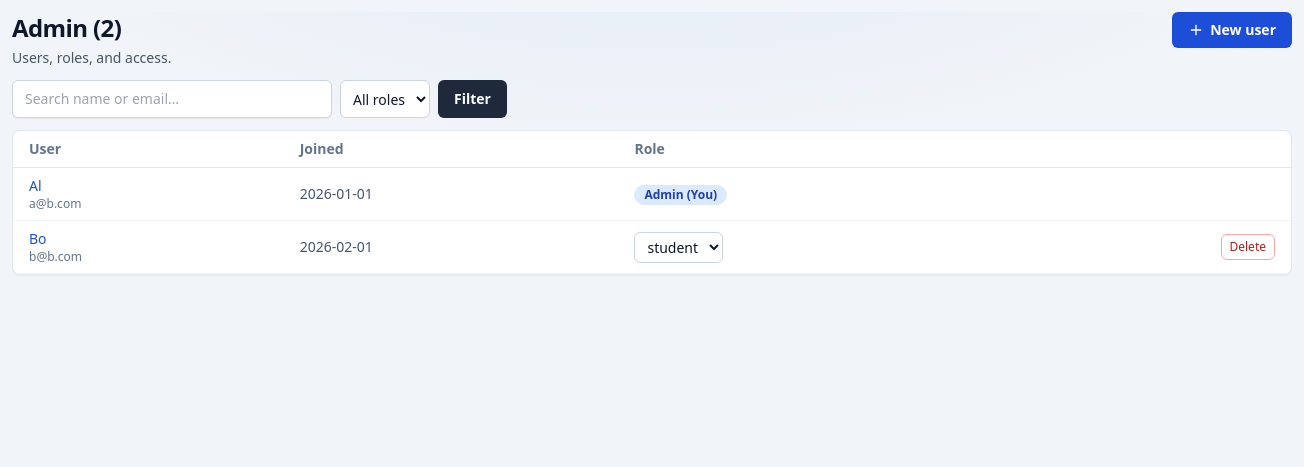
Test case: Admin page › shows validation errors from the server on create
The width and height of the screenshot is (1304, 467).
Expected: the text "b@b.com" is shown, [29, 248, 82, 265]
Click the button "New user" at (1232, 30), box [1172, 12, 1292, 48]
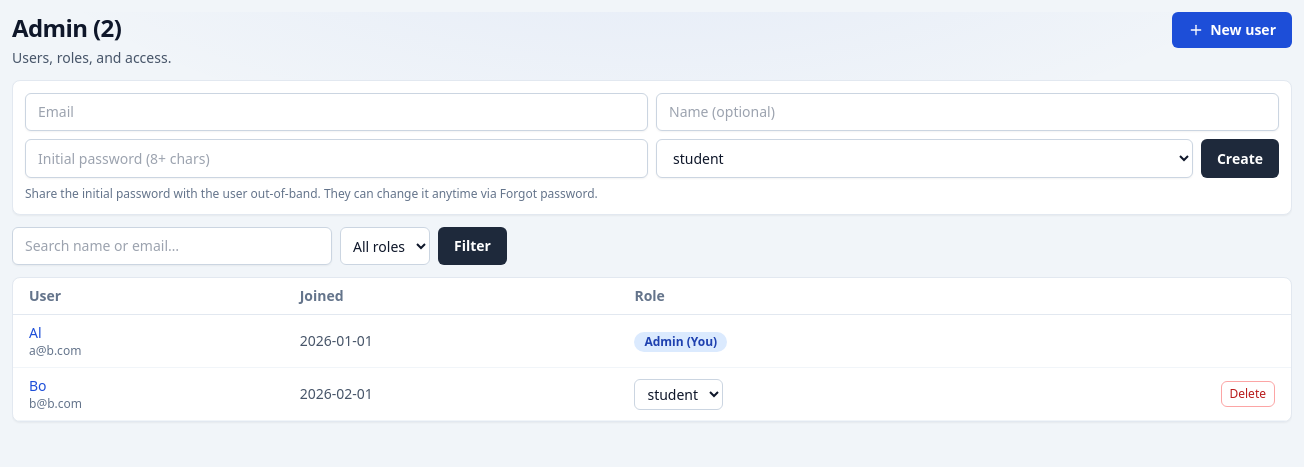
Type "b@b.com" into the field labelled "Email" at (336, 112), box [25, 93, 648, 131]
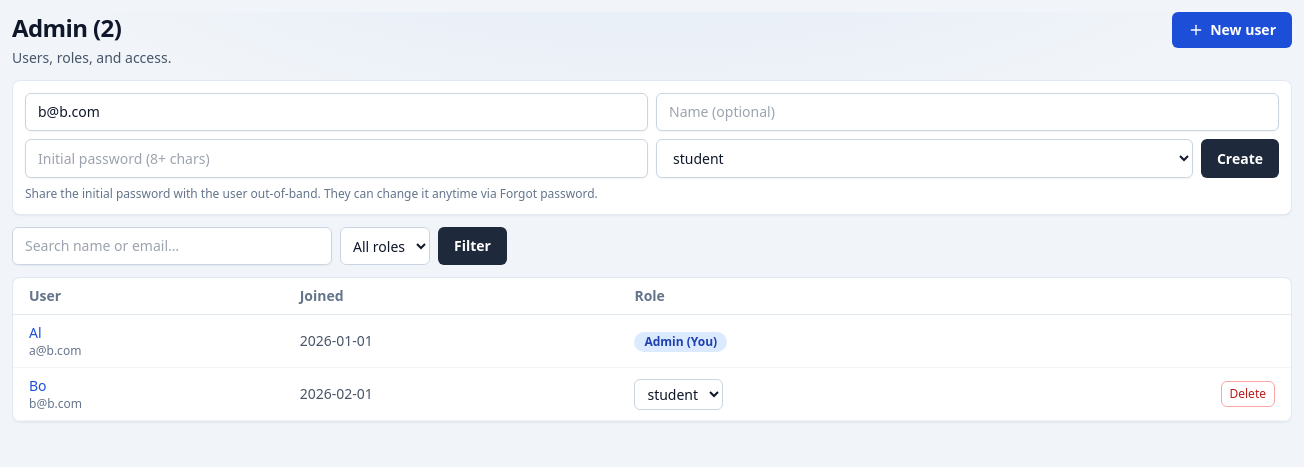
Type "password123" into the password field labelled "Initial password" at (336, 158), box [25, 139, 648, 178]
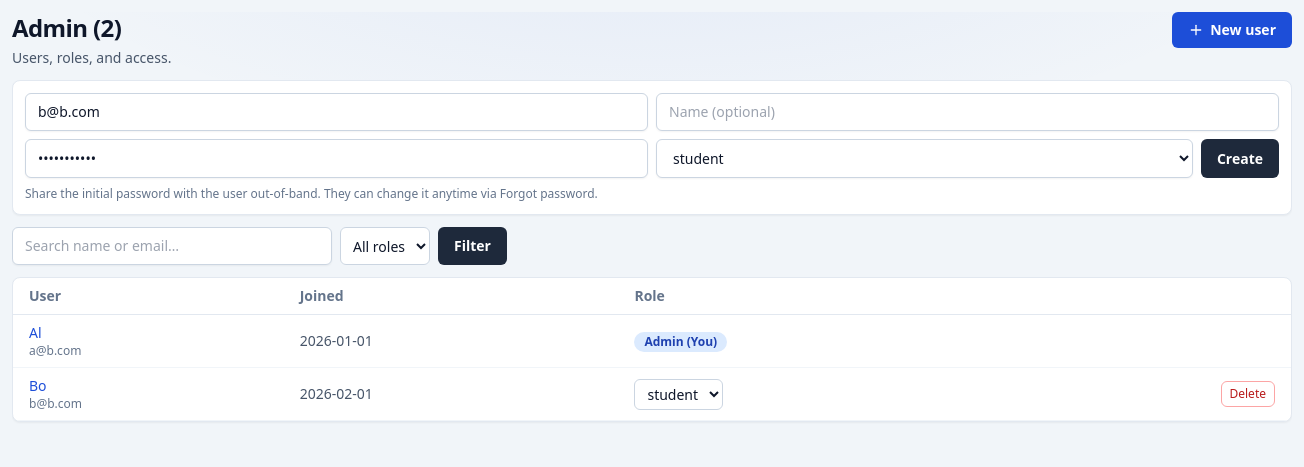
Click the button "Create" at (1240, 158), box [1201, 139, 1279, 178]
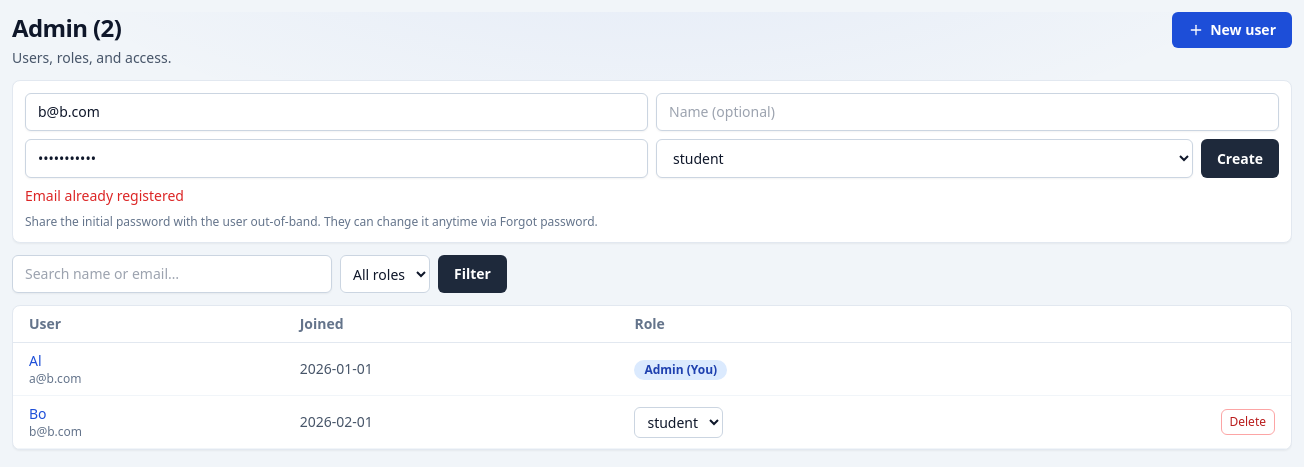
Now the text "Email already registered" is shown, box [25, 186, 184, 205]
